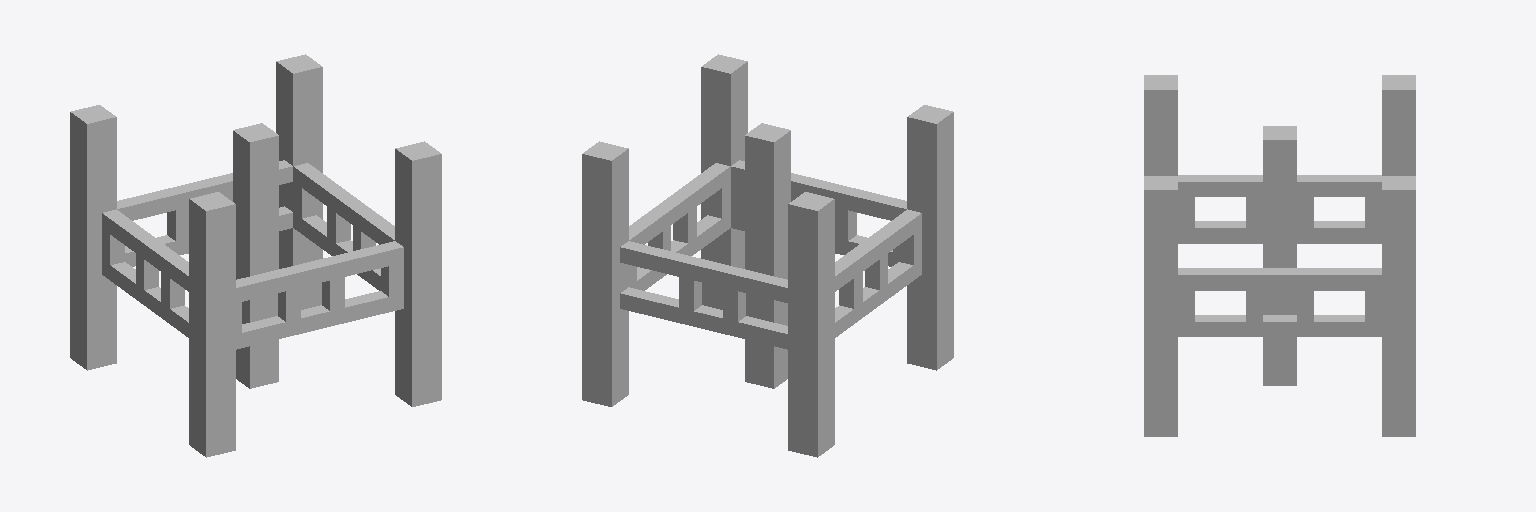
File: power_generators_shaft_ver.obj
3 renders of one model, left to right at view 1: azimuth 30°, elevation 25°; view 2: azimuth 150°, elevation 25°; view 3: azimuth 270°, elevation 25°, orthographic.
Visible parts, largest first — view 1: node_0_0_0.021; view 2: node_0_0_0.021; view 3: node_0_0_0.021.
Boxes of the visible parts, x1=… form: node_0_0_0.021: x1=70, y1=54, x2=441, y2=457; node_0_0_0.021: x1=582, y1=54, x2=953, y2=457; node_0_0_0.021: x1=1144, y1=75, x2=1415, y2=436.
Size of the model in its own units: 1 by 1 by 1.